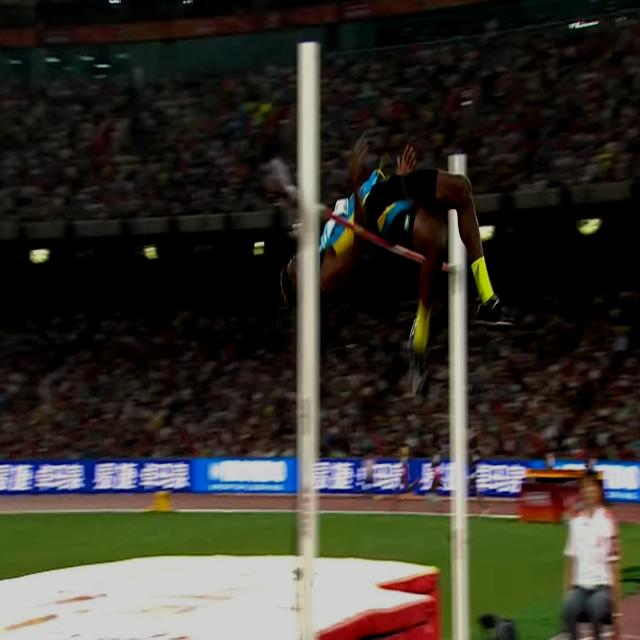jump: (280, 129, 516, 398)
